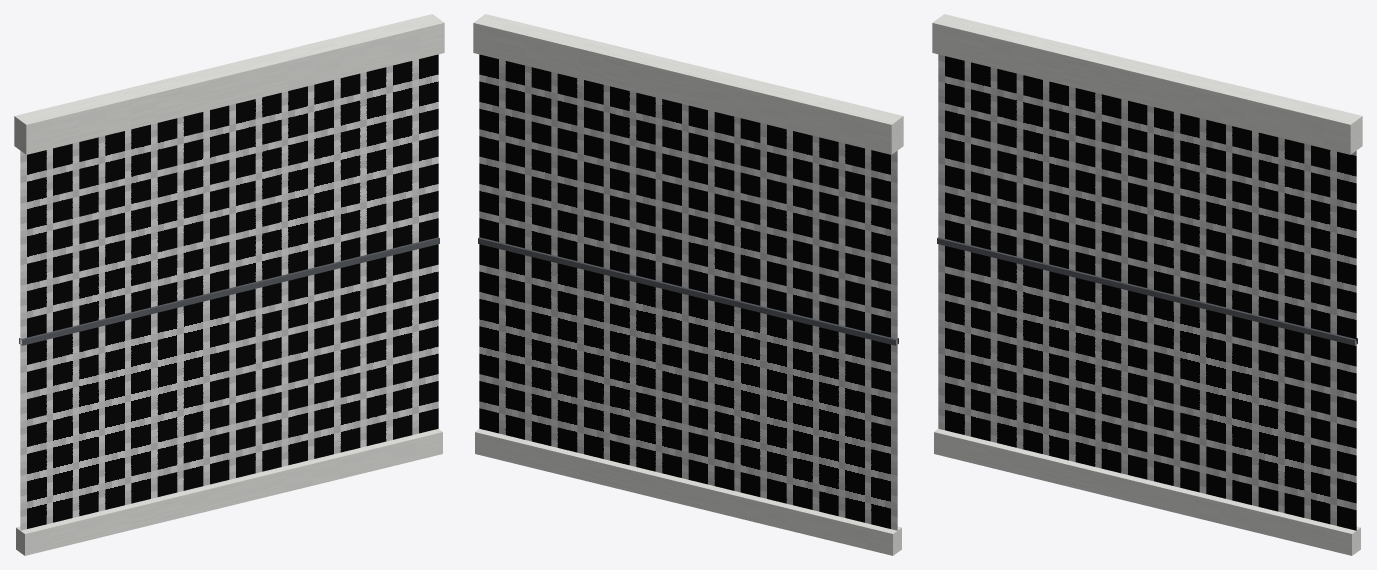
The model's file is vb_w_mid.obj.
3 renders of one model, left to right at view 1: azimuth 30°, elevation 25°; view 2: azimuth 150°, elevation 25°; view 3: azimuth 330°, elevation 25°, orthographic.
Parts seen in each view (by area): view 1: vb_w_mid; view 2: vb_w_mid; view 3: vb_w_mid.
Boxes of the visible parts, left/top/right/bottom form: vb_w_mid: left=14, top=14, right=444, bottom=555; vb_w_mid: left=473, top=14, right=903, bottom=555; vb_w_mid: left=932, top=14, right=1362, bottom=555.
Size of the model in its own units: 1 by 0.9875 by 0.05.
